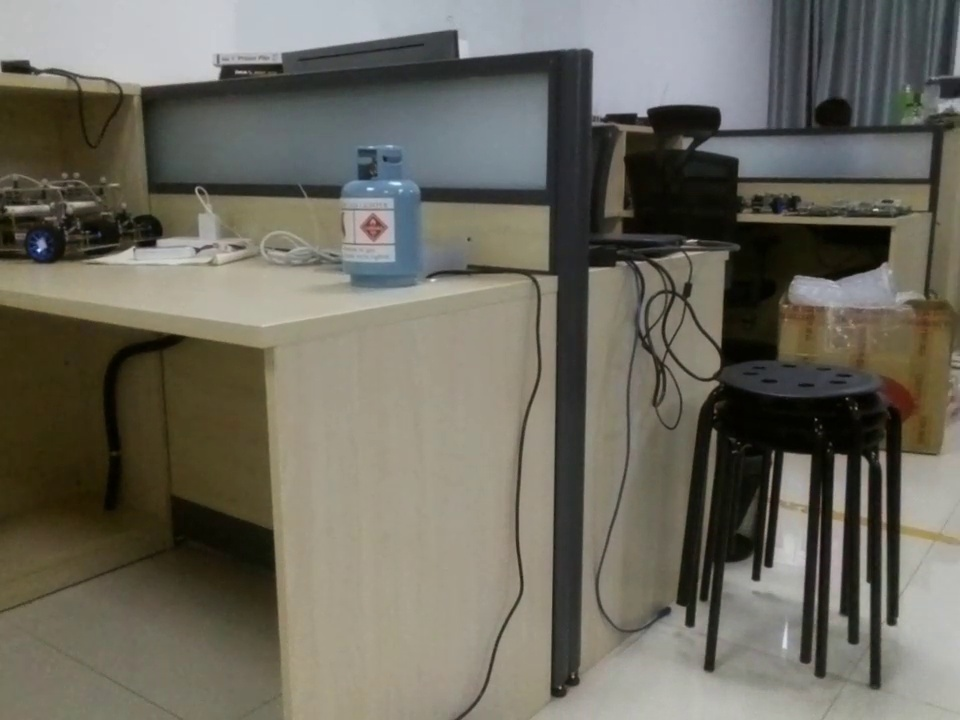gas tank: (328, 138, 434, 293)
